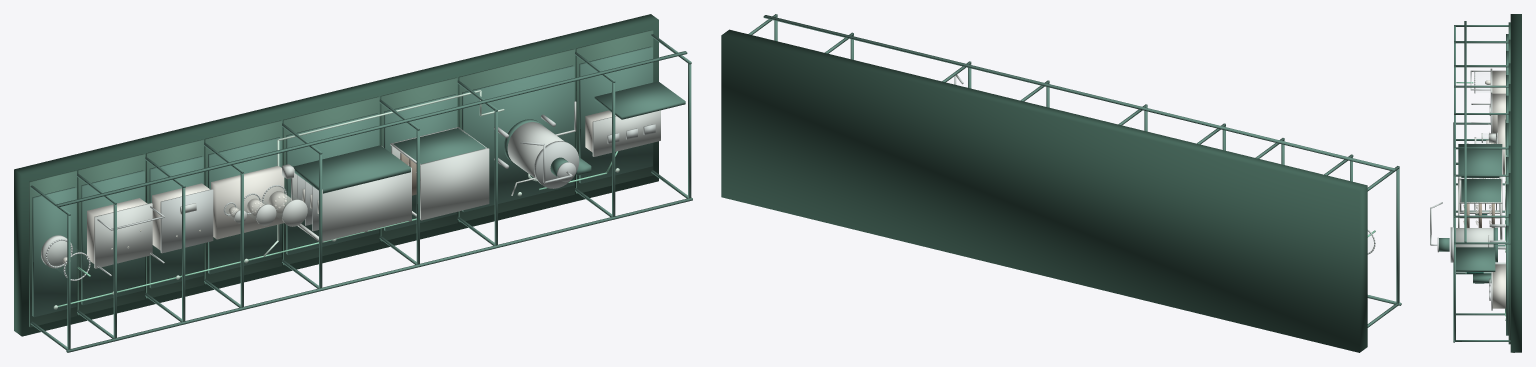
The model's file is huner-living-factory.glb.
3 renders of one model, left to right at view 1: azimuth 30°, elevation 25°; view 2: azimuth 150°, elevation 25°; view 3: azimuth 270°, elevation 25°, orthographic. The views are drawn at different scales.
Parts seen in each view (by area): view 1: continuous_foundation, G_service_datum, H_service_datum, E_cabinet_top, A_service_datum, D_service_datum, F_chamber_roof, B_service_datum, E_service_datum, D_growth_plinth, G_floor, E_rear_wall (+31 smaller); view 2: continuous_foundation, rear_structural_rail, truss_cross_0; view 3: continuous_foundation, E_rear_wall, H_backplane, F_rear_panel, G_reactor_shell, rear_structural_rail, H_console, C_sterile_bench, H_floor, H_service_datum, D_growth_plinth, B_bench_plinth (+27 smaller).
Boxes of the visible parts, x1=… form: continuous_foundation: x1=14, y1=14, x2=658, y2=336; G_service_datum: x1=462, y1=65, x2=574, y2=212; H_service_datum: x1=579, y1=46, x2=652, y2=183; E_cabinet_top: x1=322, y1=167, x2=411, y2=241; A_service_datum: x1=32, y1=187, x2=76, y2=317; D_service_datum: x1=208, y1=137, x2=281, y2=274; F_chamber_roof: x1=420, y1=148, x2=489, y2=220; B_service_datum: x1=81, y1=170, x2=144, y2=305; E_service_datum: x1=286, y1=113, x2=379, y2=255; D_growth_plinth: x1=211, y1=166, x2=284, y2=239; G_floor: x1=458, y1=49, x2=574, y2=222; E_rear_wall: x1=293, y1=145, x2=410, y2=193; continuous_foundation: x1=721, y1=29, x2=1367, y2=352; rear_structural_rail: x1=763, y1=15, x2=1395, y2=171; truss_cross_0: x1=1396, y1=167, x2=1399, y2=303; continuous_foundation: x1=1510, y1=14, x2=1521, y2=352; E_rear_wall: x1=1458, y1=144, x2=1501, y2=177; H_backplane: x1=1456, y1=247, x2=1495, y2=271; F_rear_panel: x1=1461, y1=178, x2=1500, y2=202; G_reactor_shell: x1=1456, y1=228, x2=1493, y2=247; rear_structural_rail: x1=1464, y1=21, x2=1466, y2=242; H_console: x1=1492, y1=264, x2=1505, y2=308; C_sterile_bench: x1=1492, y1=93, x2=1505, y2=143; H_floor: x1=1508, y1=214, x2=1510, y2=344; H_service_datum: x1=1506, y1=225, x2=1508, y2=335; D_growth_plinth: x1=1497, y1=115, x2=1505, y2=174; B_bench_plinth: x1=1492, y1=70, x2=1505, y2=93.
Size of the model in its own units: 32.6 by 7.96 by 5.67.
